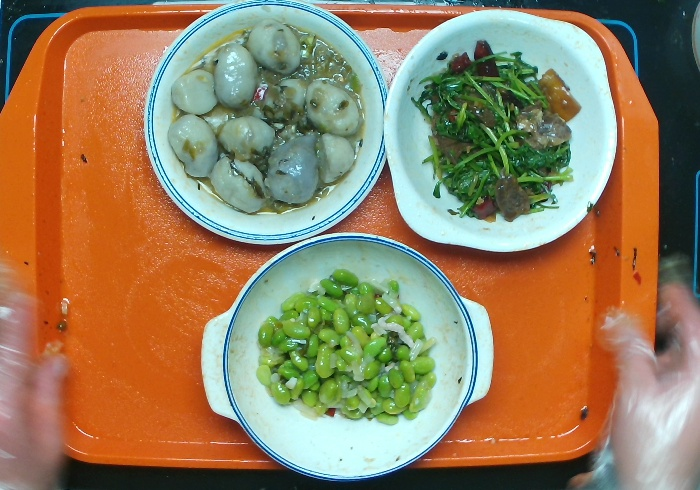HZYJPL-Dai_Er_Bai_Yuan_Wan: (383, 3, 619, 257)
HZYJPL-Lan_Bian_Dai_Er_Wan: (199, 236, 492, 482)
HZYJPL-Lan_Bian_Yuan_Die: (142, 1, 386, 245)
